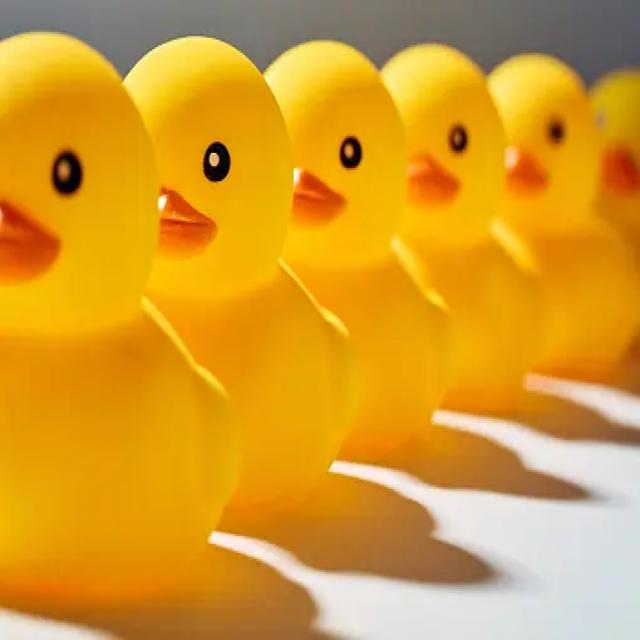ducks: (123, 15, 312, 593), (12, 39, 185, 576), (376, 26, 524, 484)
